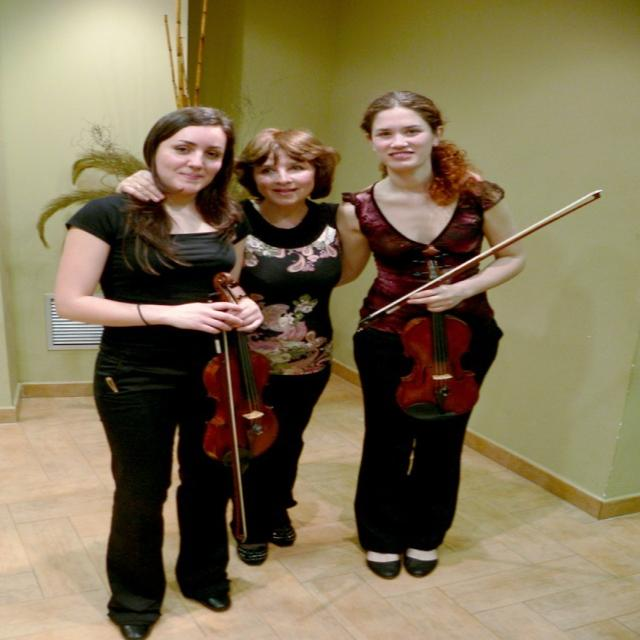violin: (392, 243, 485, 422), (202, 270, 276, 462)
